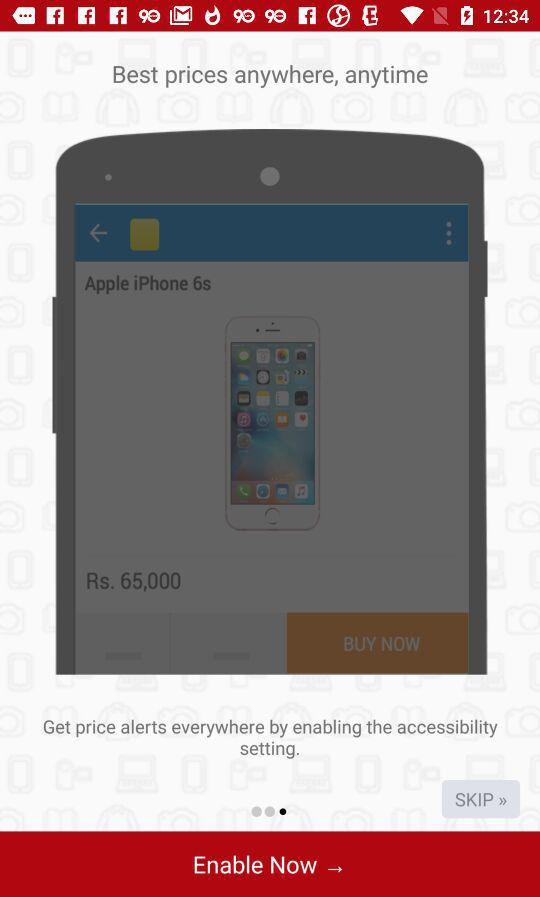Image: (53, 129, 489, 676)
PageIndicator: (251, 805, 288, 819)
Text: (44, 718, 498, 760), (113, 65, 429, 89)
TextButton: (1, 831, 540, 897), (442, 779, 520, 819)
UpperTaskBar: (1, 1, 540, 33)
